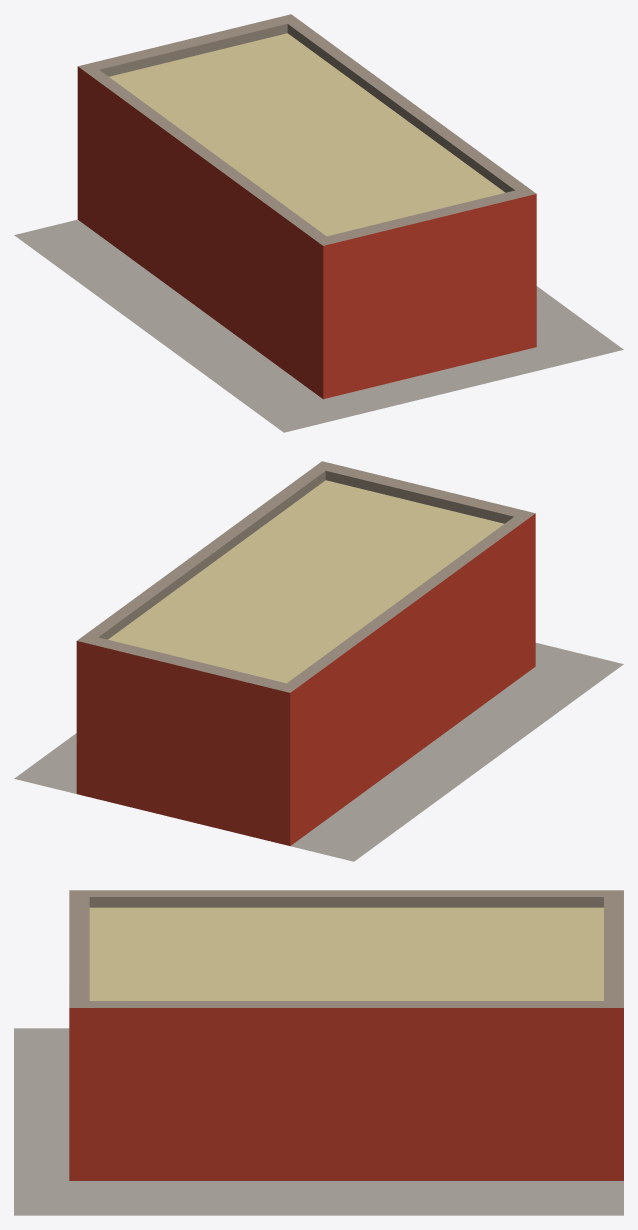
Rendered from Building_01.fbx.
3 renders of one model, top to bottom at view 1: azimuth 30°, elevation 25°; view 2: azimuth 150°, elevation 25°; view 3: azimuth 270°, elevation 25°, orthographic. The views are drawn at different scales.
Visible parts, largest first — view 1: Building_01; view 2: Building_01; view 3: Building_01.
Boxes of the visible parts, x1,y1,x2,y2 form: Building_01: (14,14,623,432); Building_01: (14,461,623,861); Building_01: (14,890,623,1215).
Bounding box in the file's own units: 16 × 6.89 × 22.
